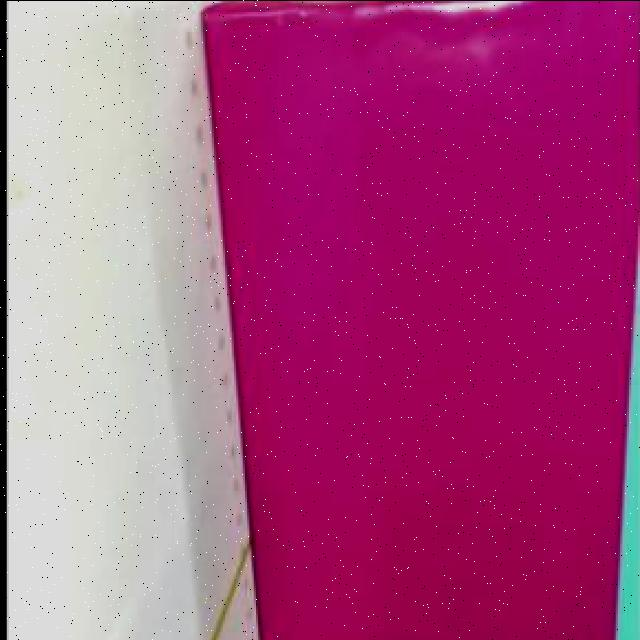xparking: (192, 9, 614, 640)
